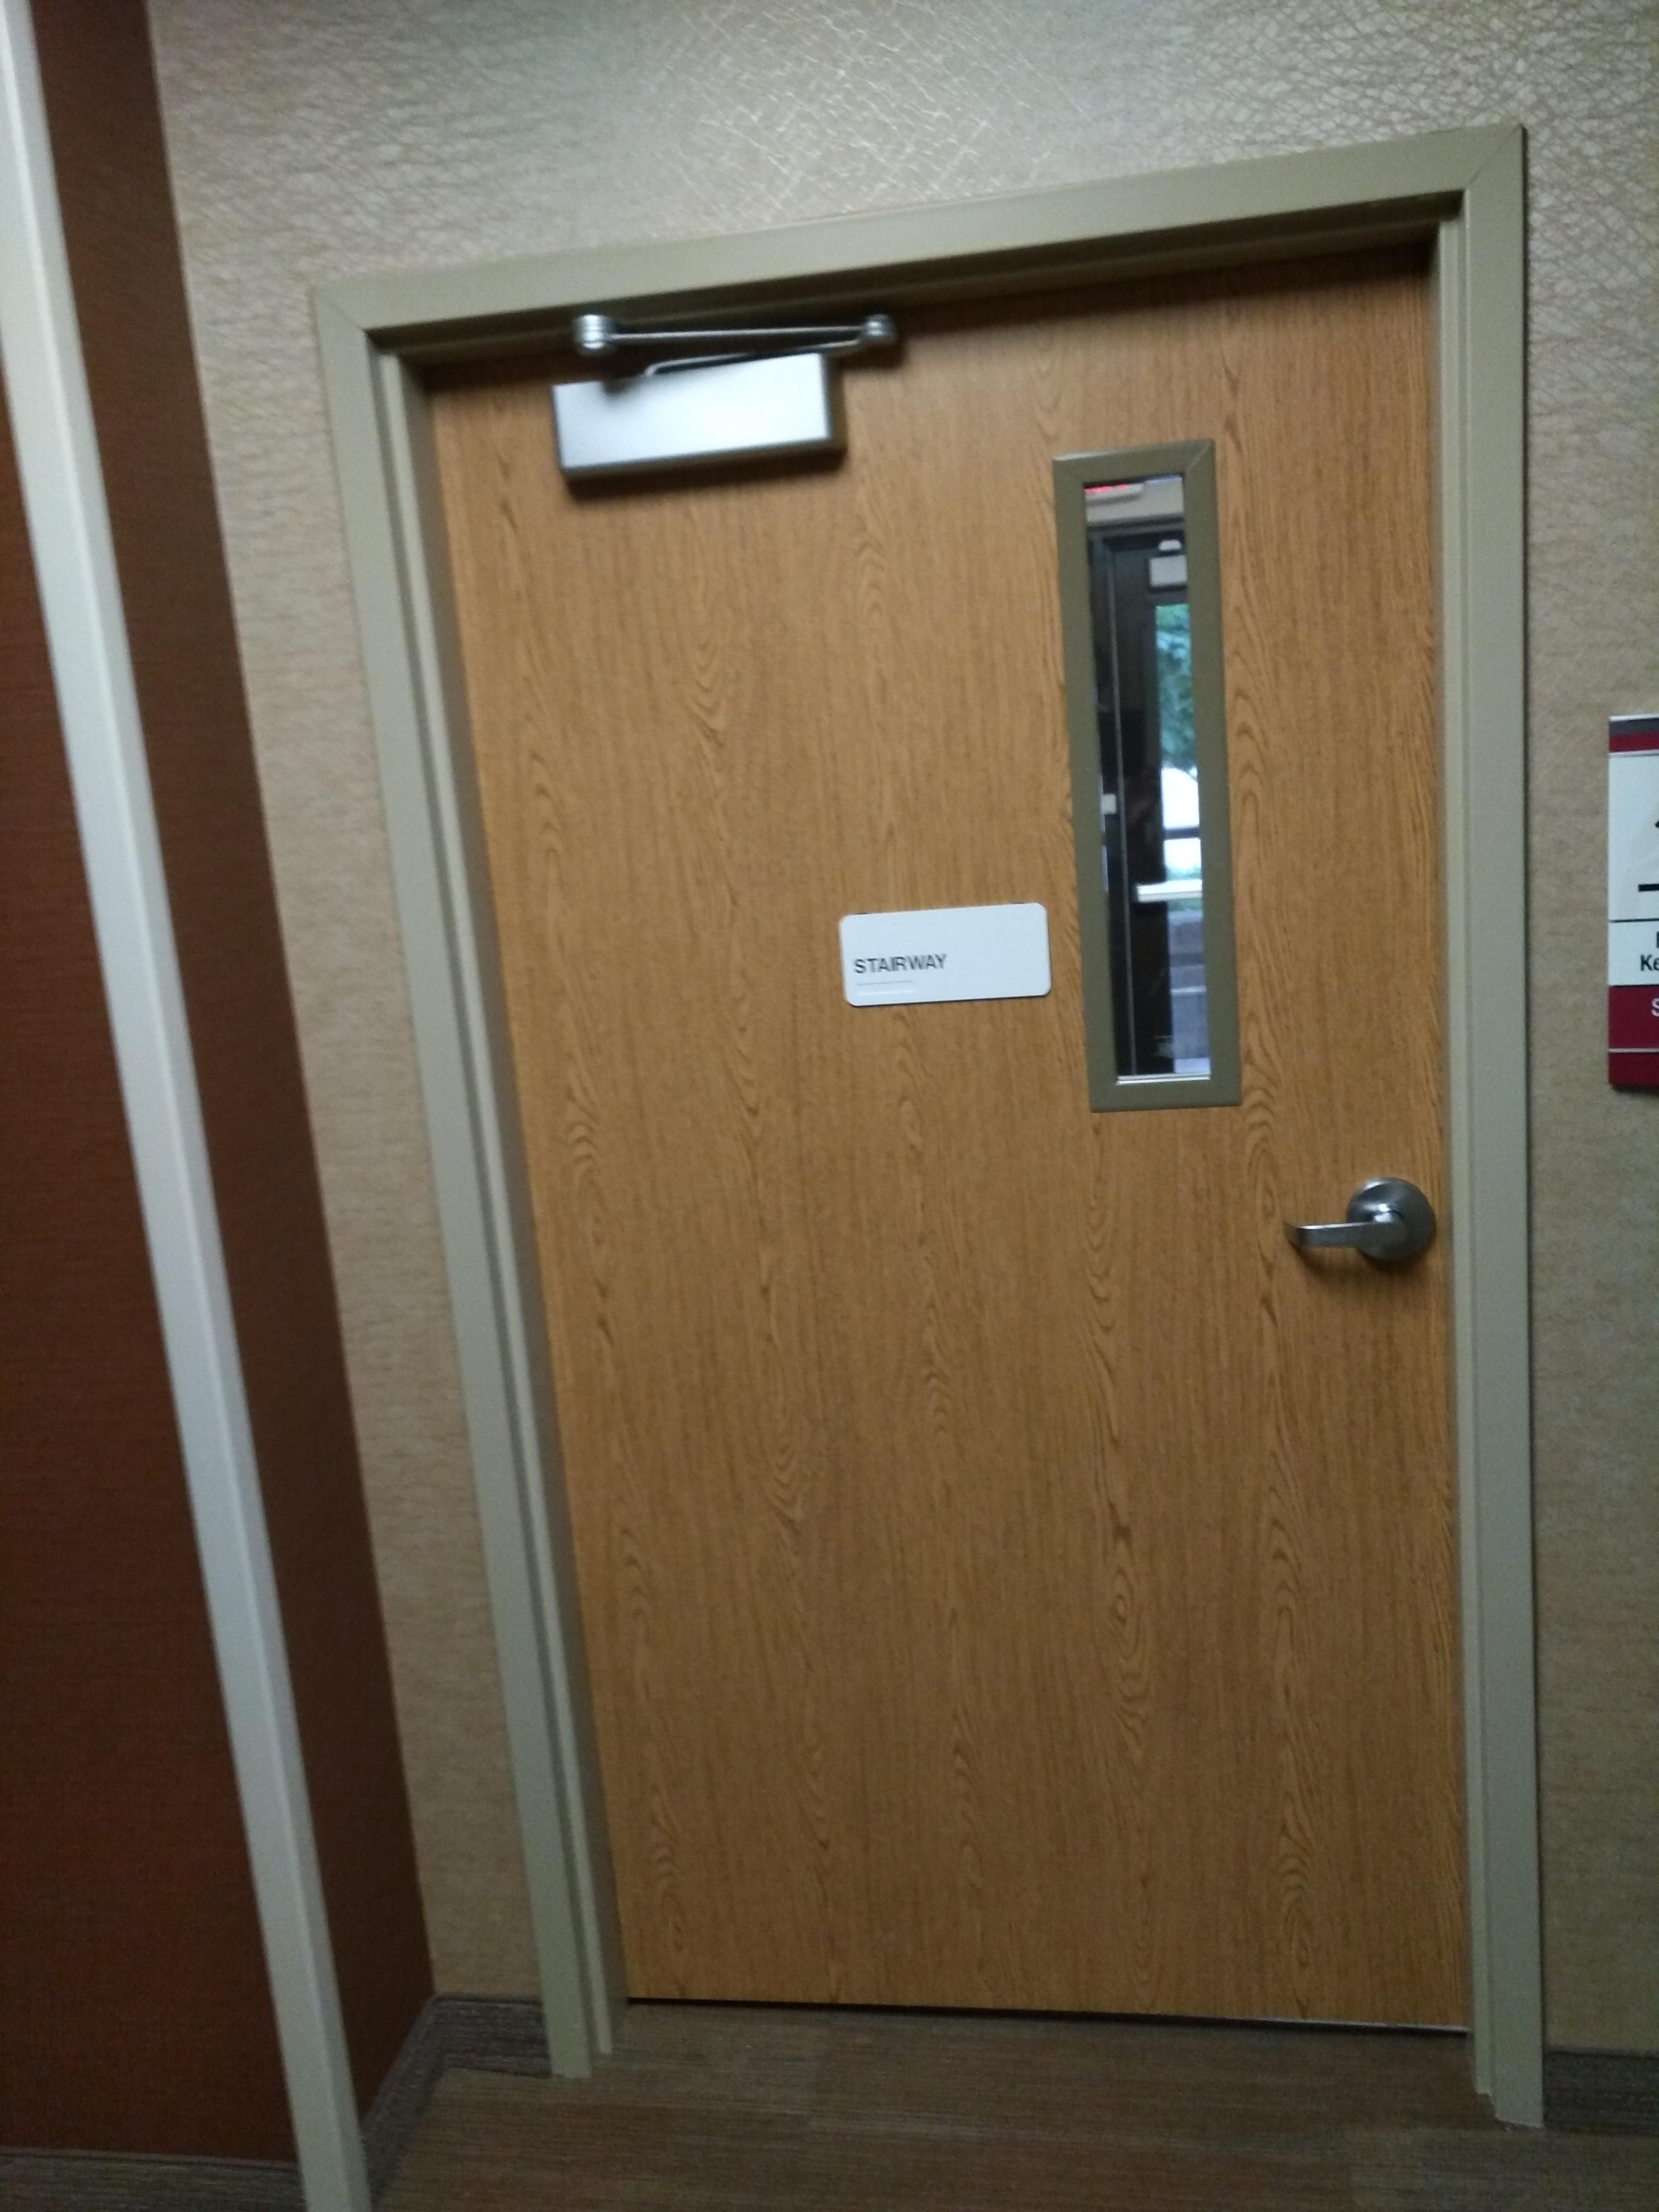door: (368, 164, 1476, 1993)
